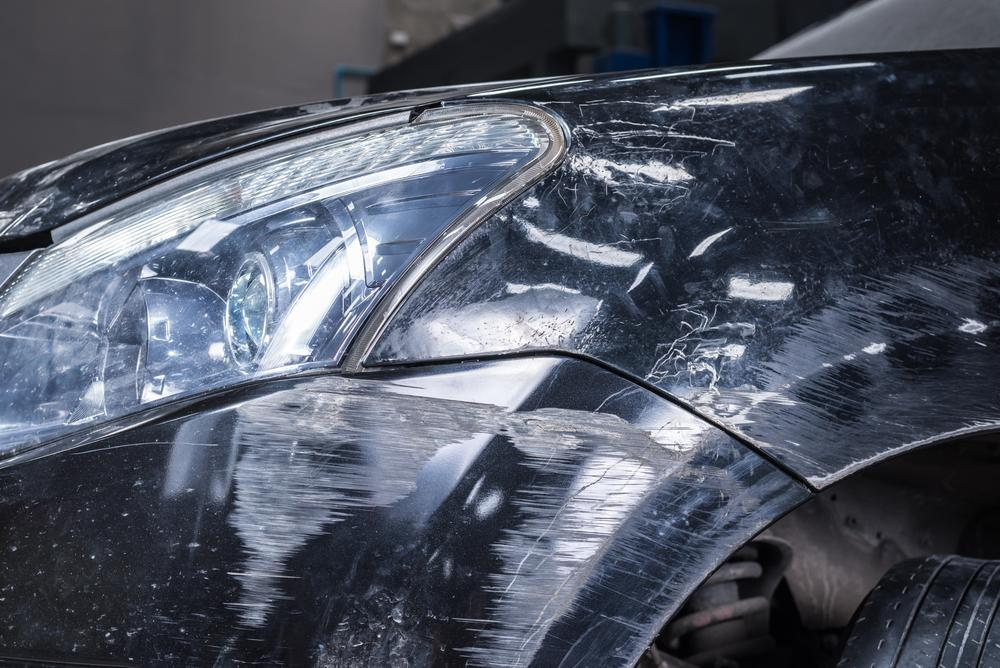scratch: (223, 376, 794, 668), (729, 244, 1000, 486)
